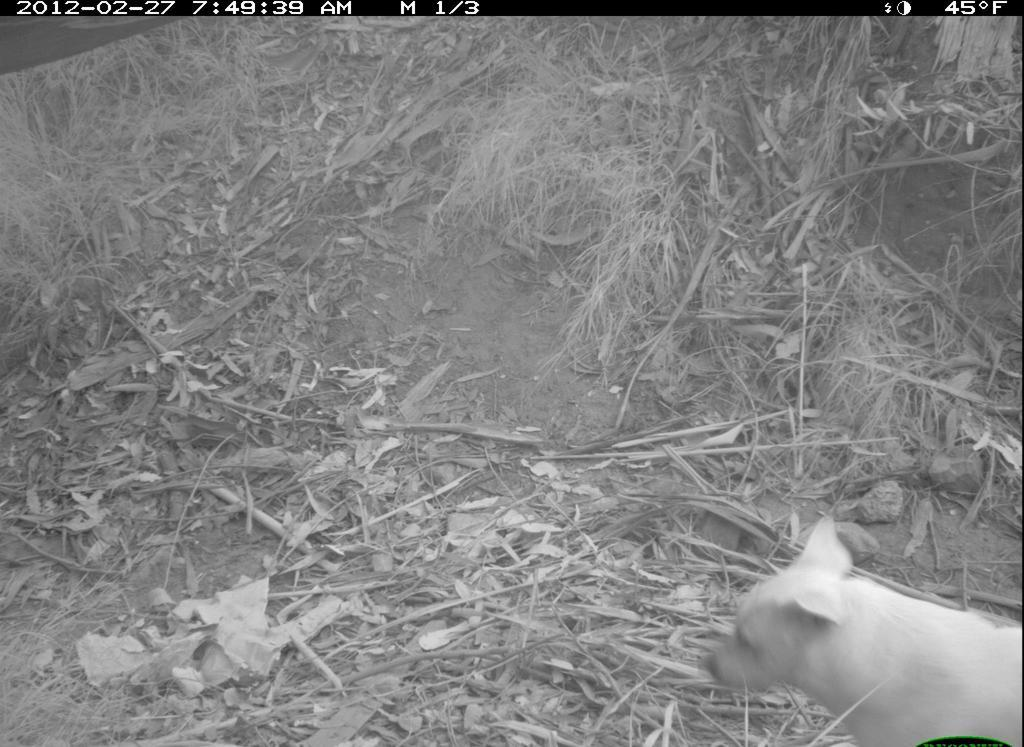dog: (698, 511, 1022, 747)
